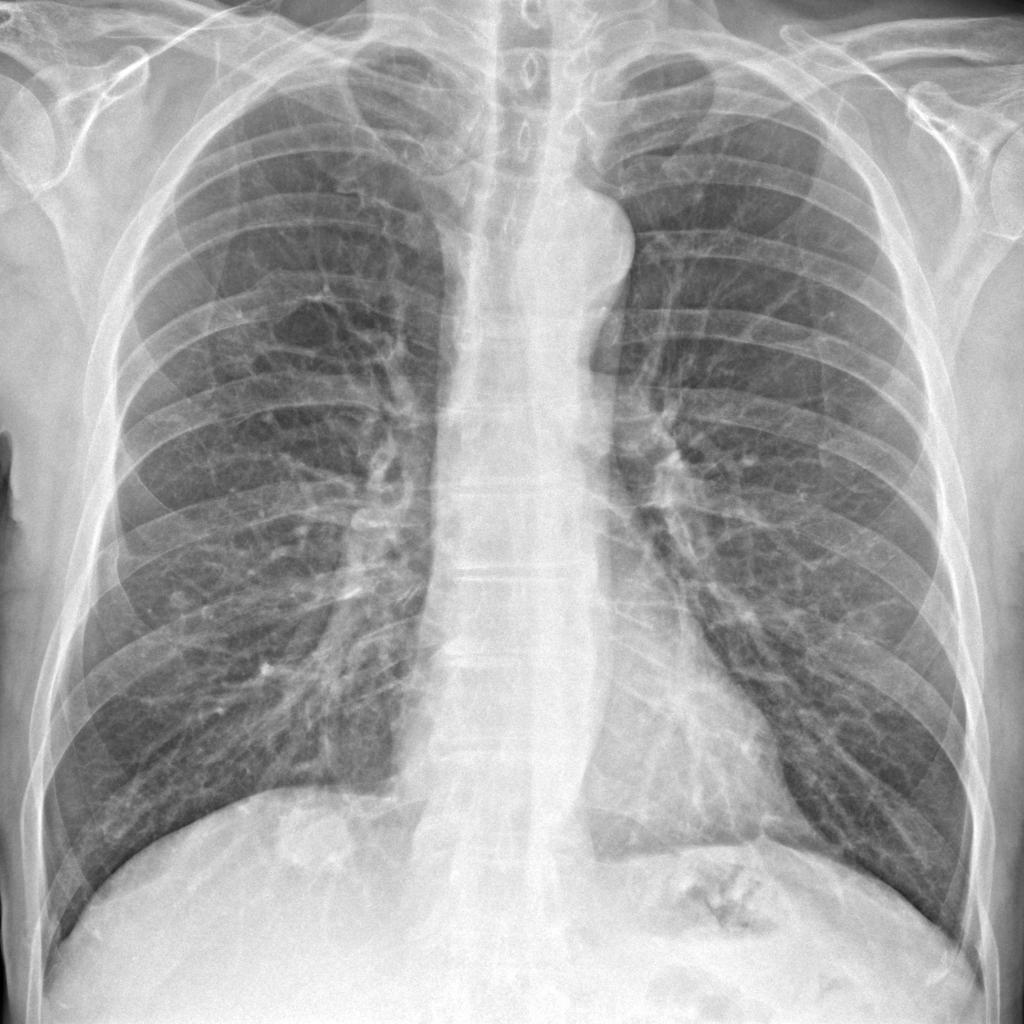Nodule: (271, 803, 357, 891)
